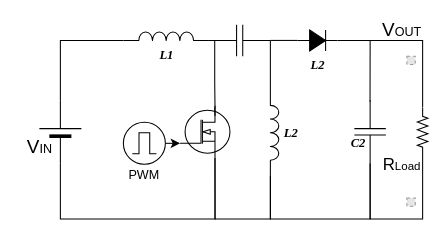
This 446x238 diagram has some shape labels left out. Grey dashed boxes stand in for pictures. The shapes that lost their labels are listed below. From the top down, each one's centre as x and y in pixels, then its label:
At pixel 239 40: "C1".
At pixel 204 131: "Q1".
